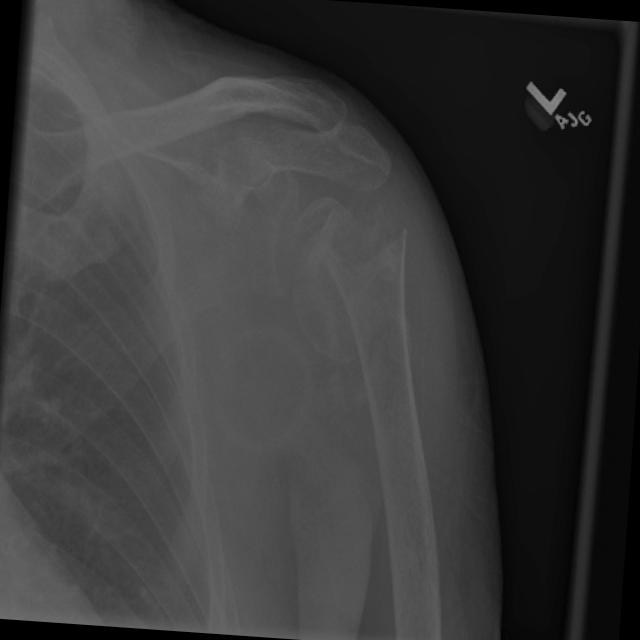shoulder fracture: (288, 183, 444, 320)
